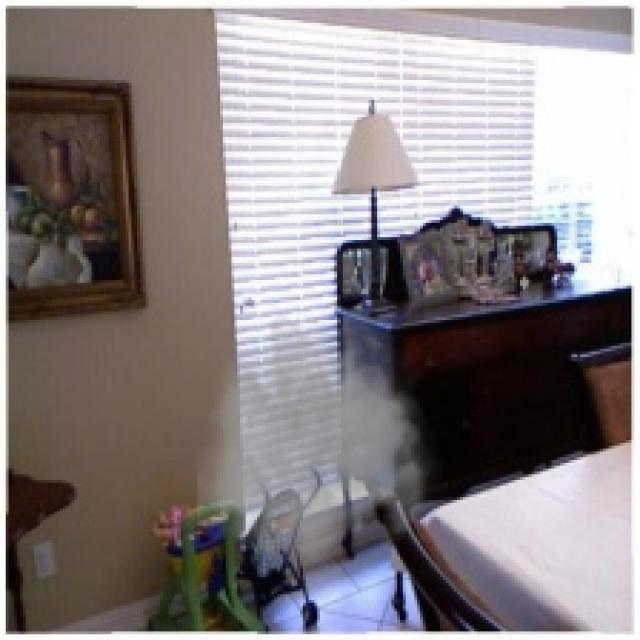smoke: (197, 309, 446, 574)
